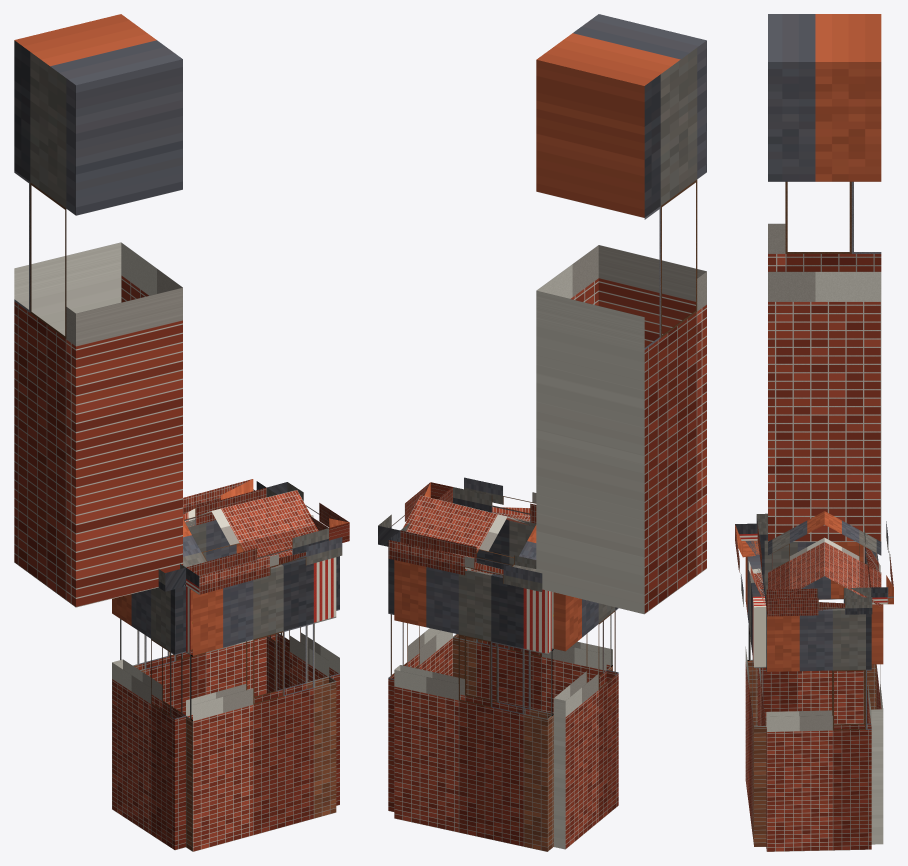
The picture shows the model from 3 angles, left to right: view 1: azimuth 30°, elevation 25°; view 2: azimuth 150°, elevation 25°; view 3: azimuth 270°, elevation 25°; orthographic projection. The views are drawn at different scales.
Visible parts, largest first — view 1: 1106973764__chimney_0_xb, 1106973764__wall_2_xb, 1106973764__wall_3_xb, 1106973764__wall_0_xb, 1106973764_roof_-1_xb, 1106973764__cornice_2, 1106973764__wall_1_xb, 1106973764__cornice_0, 1106973764__cornice_1; view 2: 1106973764__chimney_0_xb, 1106973764__wall_0_xb, 1106973764__wall_3_xb, 1106973764__wall_2_xb, 1106973764_roof_1_xb, 1106973764__cornice_0, 1106973764__wall_1_xb, 1106973764__cornice_2, 1106973764__cornice_1; view 3: 1106973764__chimney_0_xb, 1106973764__wall_1_xb, 1106973764__wall_3_xb, 1106973764__wall_2_xb, 1106973764__wall_0_xb, 1106973764_roof_1_xb, 1106973764_roof_-1_xb, 1106973764__cornice_1, 1106973764__cornice_2, 1106973764__cornice_0.
Part boxes in pixels (left/top/right/bottom): 1106973764__chimney_0_xb: left=14, top=14, right=182, bottom=607; 1106973764__wall_2_xb: left=186, top=555, right=336, bottom=851; 1106973764__wall_3_xb: left=112, top=585, right=185, bottom=850; 1106973764__wall_0_xb: left=120, top=519, right=266, bottom=715; 1106973764_roof_-1_xb: left=183, top=490, right=318, bottom=567; 1106973764__cornice_2: left=186, top=528, right=342, bottom=594; 1106973764__wall_1_xb: left=266, top=555, right=339, bottom=805; 1106973764__cornice_0: left=183, top=479, right=266, bottom=526; 1106973764__cornice_1: left=266, top=482, right=349, bottom=542; 1106973764__chimney_0_xb: left=536, top=14, right=706, bottom=614; 1106973764__wall_0_xb: left=394, top=560, right=553, bottom=851; 1106973764__wall_3_xb: left=553, top=592, right=618, bottom=849; 1106973764__wall_2_xb: left=453, top=512, right=612, bottom=713; 1106973764_roof_1_xb: left=403, top=495, right=536, bottom=574; 1106973764__cornice_0: left=388, top=530, right=542, bottom=591; 1106973764__wall_1_xb: left=388, top=547, right=452, bottom=811; 1106973764__cornice_2: left=453, top=477, right=536, bottom=523; 1106973764__cornice_1: left=378, top=482, right=452, bottom=546; 1106973764__chimney_0_xb: left=768, top=14, right=881, bottom=541; 1106973764__wall_1_xb: left=766, top=607, right=871, bottom=851; 1106973764__wall_3_xb: left=760, top=540, right=863, bottom=724; 1106973764__wall_2_xb: left=745, top=540, right=766, bottom=846; 1106973764__wall_0_xb: left=863, top=546, right=883, bottom=844; 1106973764_roof_1_xb: left=824, top=511, right=881, bottom=606; 1106973764_roof_-1_xb: left=768, top=511, right=824, bottom=598; 1106973764__cornice_1: left=766, top=587, right=872, bottom=616; 1106973764__cornice_2: left=735, top=523, right=766, bottom=606; 1106973764__cornice_0: left=864, top=521, right=893, bottom=604.
Size of the model in its own units: 0.3836 by 1.05 by 0.2098.
Materials: 1 (1 with a texture image).
